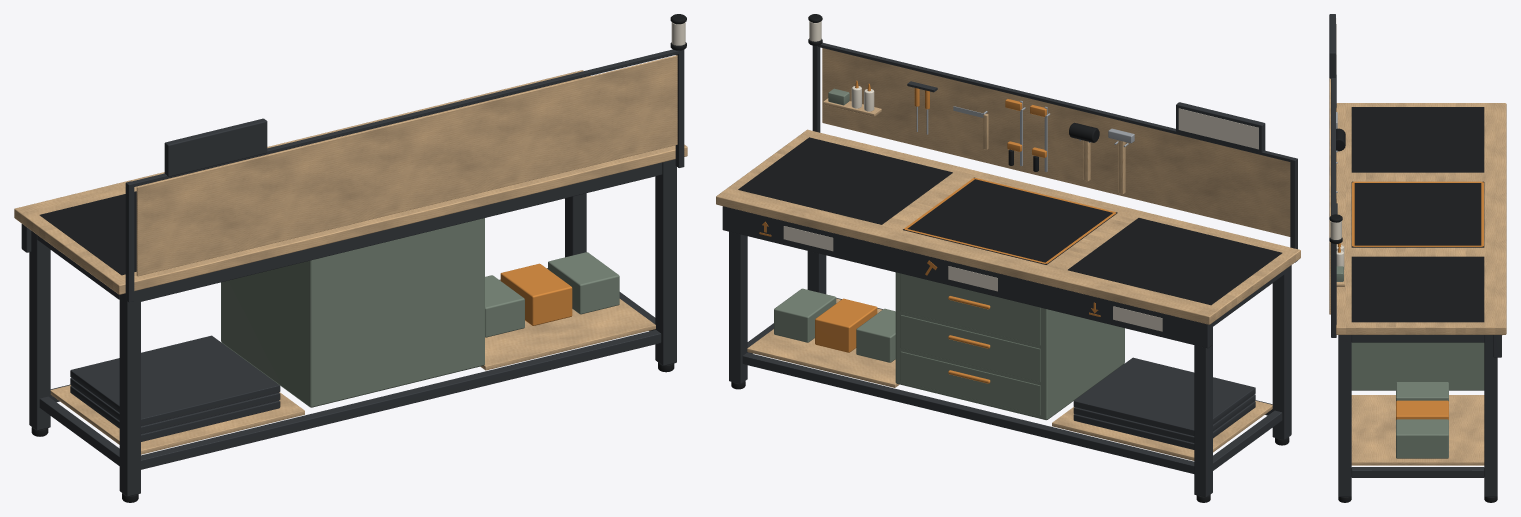
Rendered from Montagebank01.glb.
3 views of the same model, side by side, from view 1: azimuth 30°, elevation 25°; view 2: azimuth 150°, elevation 25°; view 3: azimuth 270°, elevation 25° (orthographic). The views are drawn at different scales.
Visible parts, largest first — view 1: Montagebank01__WoodBench, Montagebank01__SteelDark, Montagebank01__SteelGreen, Montagebank01__Black, Montagebank01__SafetyOrange; view 2: Montagebank01__WoodBench, Montagebank01__SteelDark, Montagebank01__Black, Montagebank01__SteelGreen, Montagebank01__SafetyOrange, Montagebank01__WallWhite, Montagebank01__BareSteel; view 3: Montagebank01__Black, Montagebank01__WoodBench, Montagebank01__SteelGreen, Montagebank01__SteelDark, Montagebank01__SafetyOrange, Montagebank01__WallWhite, Montagebank01__StatusLamp__WallWhite.
Boxes of the visible parts, left/top/right/bottom form: Montagebank01__WoodBench: left=14, top=55, right=687, bottom=454; Montagebank01__SteelDark: left=21, top=49, right=684, bottom=496; Montagebank01__SteelGreen: left=221, top=218, right=619, bottom=407; Montagebank01__Black: left=31, top=14, right=686, bottom=502; Montagebank01__SafetyOrange: left=500, top=263, right=572, bottom=325; Montagebank01__WoodBench: left=716, top=48, right=1300, bottom=460; Montagebank01__SteelDark: left=722, top=43, right=1297, bottom=497; Montagebank01__Black: left=731, top=14, right=1289, bottom=502; Montagebank01__SteelGreen: left=774, top=88, right=1124, bottom=420; Montagebank01__SafetyOrange: left=759, top=80, right=1116, bottom=383; Montagebank01__WallWhite: left=783, top=86, right=1258, bottom=331; Montagebank01__BareSteel: left=916, top=100, right=1134, bottom=172; Montagebank01__Black: left=1329, top=107, right=1497, bottom=502; Montagebank01__WoodBench: left=1329, top=78, right=1506, bottom=465; Montagebank01__SteelGreen: left=1336, top=266, right=1484, bottom=458; Montagebank01__SteelDark: left=1329, top=14, right=1501, bottom=496; Montagebank01__SafetyOrange: left=1337, top=181, right=1502, bottom=419; Montagebank01__WallWhite: left=1336, top=18, right=1344, bottom=269; Montagebank01__StatusLamp__WallWhite: left=1330, top=221, right=1341, bottom=239.
Bounding box in the file's own units: 2.4 × 1.43 × 0.8.
7 materials, 1 textured.
